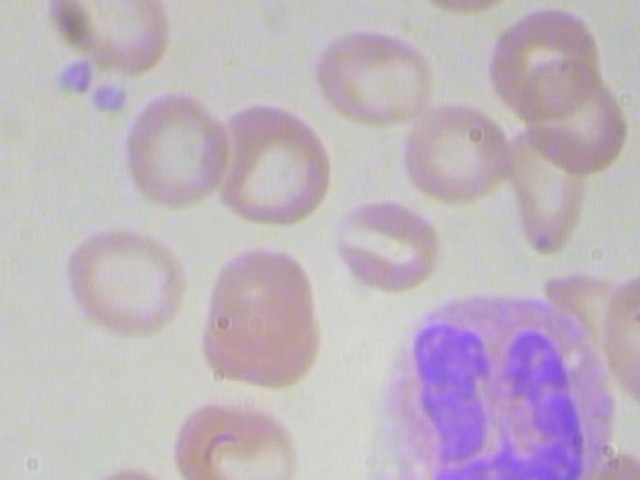Platelets: (50, 53, 96, 101), (85, 75, 129, 118)
RBC: (197, 95, 336, 236), (59, 222, 198, 351), (112, 87, 239, 215), (306, 15, 440, 133), (492, 118, 599, 264), (488, 0, 603, 129), (203, 240, 323, 361), (397, 96, 515, 211), (329, 188, 441, 303), (165, 390, 305, 480), (31, 0, 176, 84), (596, 265, 640, 417), (401, 0, 530, 26)
WBC: (359, 284, 625, 480)
